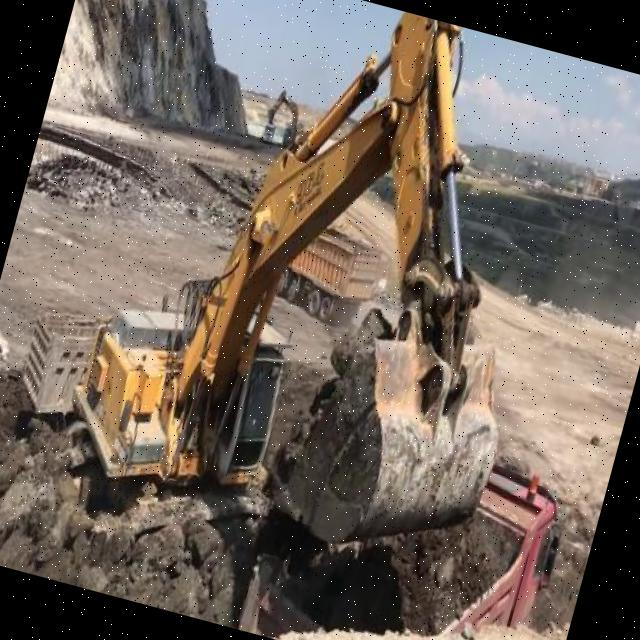Dump Truck: (406, 446, 575, 640), (10, 298, 110, 426), (270, 217, 382, 331)
Excavator: (50, 0, 602, 602)
